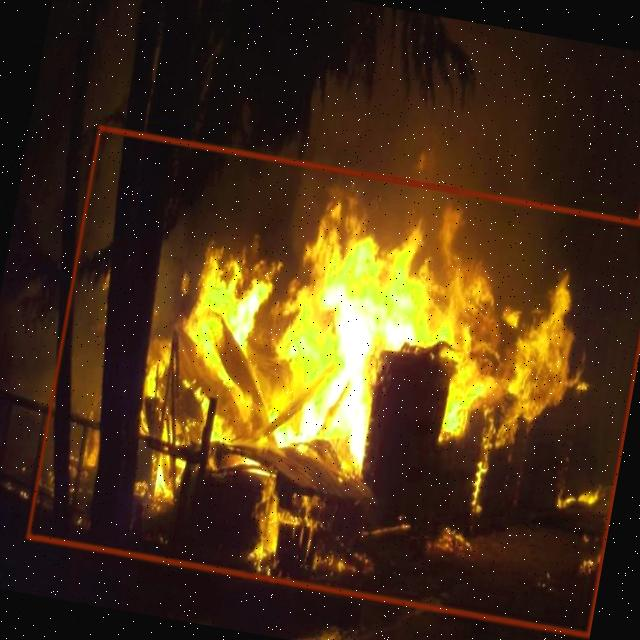fire: (27, 124, 640, 637)
